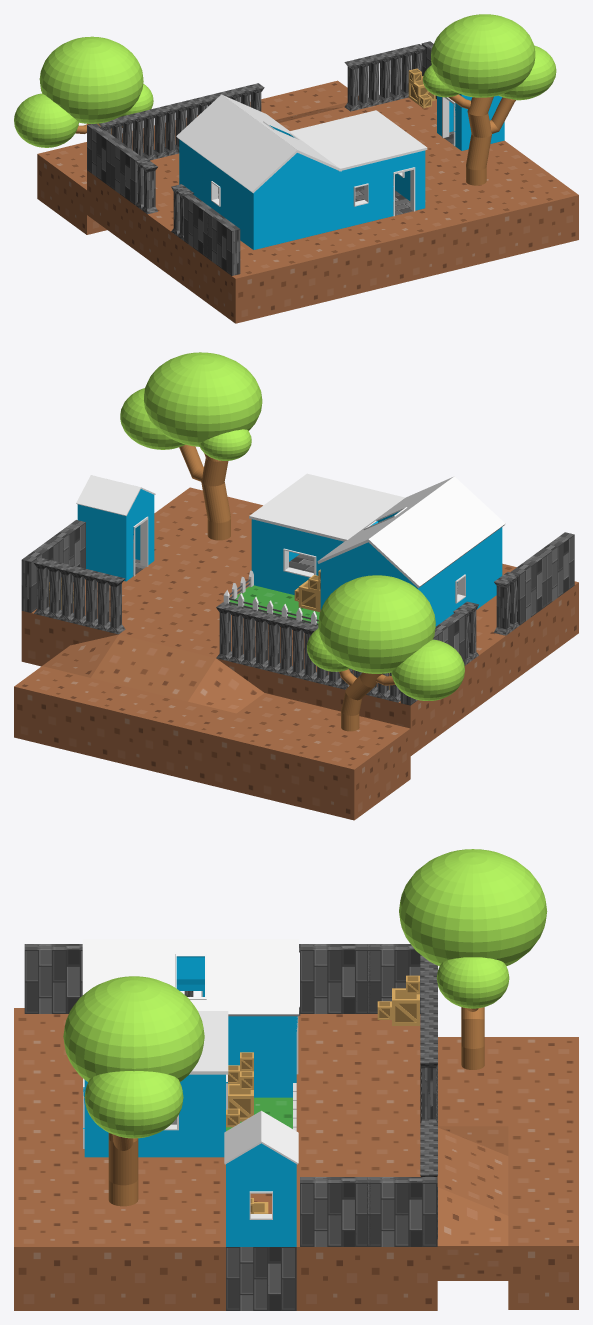
Rendered from SigmaCityTest4.glb.
The picture shows the model from 3 angles, top to bottom: view 1: azimuth 30°, elevation 25°; view 2: azimuth 150°, elevation 25°; view 3: azimuth 270°, elevation 25°; orthographic projection. The views are drawn at different scales.
Parts seen in each view (by area): view 1: Tree, Tree2, CornerWall.001, Dirt.014, Dirt.016, Dirt.018, Dirt.015, Dirt.017, Dirt.013, Dirt.040, Dirt.024, SlantRoof.005 (+49 smaller); view 2: Tree2, Tree, Dirt.029, Dirt.020, Dirt.025, Dirt.023, Dirt.021, Dirt.027, Dirt.043, LongWindow, SlantRoof.001, Dirt.030 (+65 smaller); view 3: Tree, Tree2, Dirt.022, Dirt.043, Dirt.019, Dirt.024, SlantRoof, DirtSlopeCorner, LongWindow.001, Dirt.046, Dirt.047, Dirt.049 (+57 smaller).
Part boxes in pixels (left/top/right/bottom): Tree: left=423, top=14, right=556, bottom=185; Tree2: left=14, top=36, right=153, bottom=147; CornerWall.001: left=229, top=176, right=296, bottom=249; Dirt.014: left=210, top=250, right=278, bottom=323; Dirt.016: left=297, top=229, right=364, bottom=302; Dirt.018: left=383, top=208, right=450, bottom=281; Dirt.015: left=254, top=240, right=321, bottom=312; Dirt.017: left=340, top=219, right=407, bottom=292; Dirt.013: left=426, top=198, right=492, bottom=271; Dirt.040: left=468, top=187, right=535, bottom=260; Dirt.024: left=511, top=177, right=578, bottom=250; SlantRoof.005: left=226, top=131, right=298, bottom=193; Tree2: left=307, top=575, right=464, bottom=731; Tree: left=120, top=352, right=262, bottom=540; Dirt.029: left=305, top=737, right=382, bottom=820; Dirt.020: left=62, top=678, right=138, bottom=760; Dirt.025: left=208, top=713, right=284, bottom=796; Dirt.023: left=160, top=701, right=236, bottom=784; Dirt.021: left=111, top=690, right=187, bottom=772; Dirt.027: left=257, top=725, right=333, bottom=808; Dirt.043: left=14, top=666, right=89, bottom=749; LongWindow: left=251, top=524, right=339, bottom=594; SlantRoof.001: left=368, top=519, right=447, bottom=588; Dirt.030: left=334, top=716, right=410, bottom=799; Tree: left=63, top=976, right=204, bottom=1206; Tree2: left=399, top=849, right=547, bottom=1069; Dirt.022: left=84, top=1217, right=155, bottom=1310; Dirt.043: left=508, top=1216, right=578, bottom=1309; Dirt.019: left=155, top=1217, right=225, bottom=1310; Dirt.024: left=14, top=1217, right=84, bottom=1310; SlantRoof: left=224, top=939, right=298, bottom=1016; DirtSlopeCorner: left=437, top=1187, right=508, bottom=1280; LongWindow.001: left=84, top=1080, right=225, bottom=1157; Dirt.046: left=367, top=1177, right=437, bottom=1246; Dirt.047: left=300, top=1177, right=370, bottom=1246; Dirt.049: left=300, top=944, right=370, bottom=1013.
Bounding box in the file's own units: 19.33 × 9.9 × 16.
Materials: 11 (4 with a texture image).
